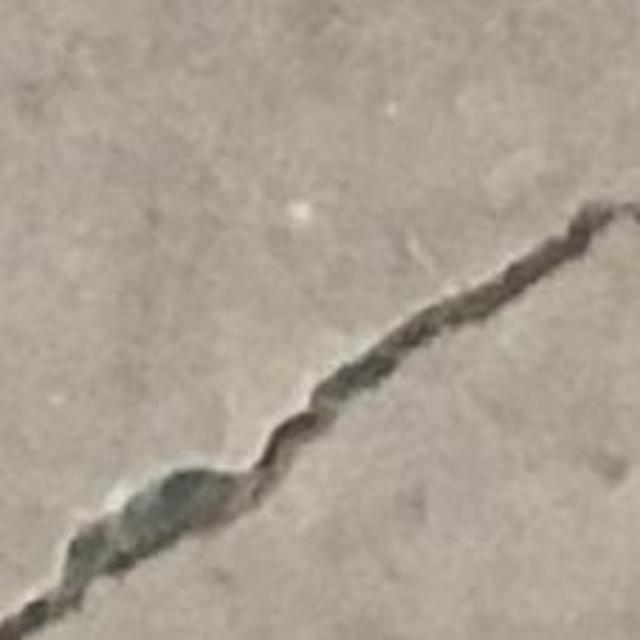crack: (0, 203, 639, 639)
